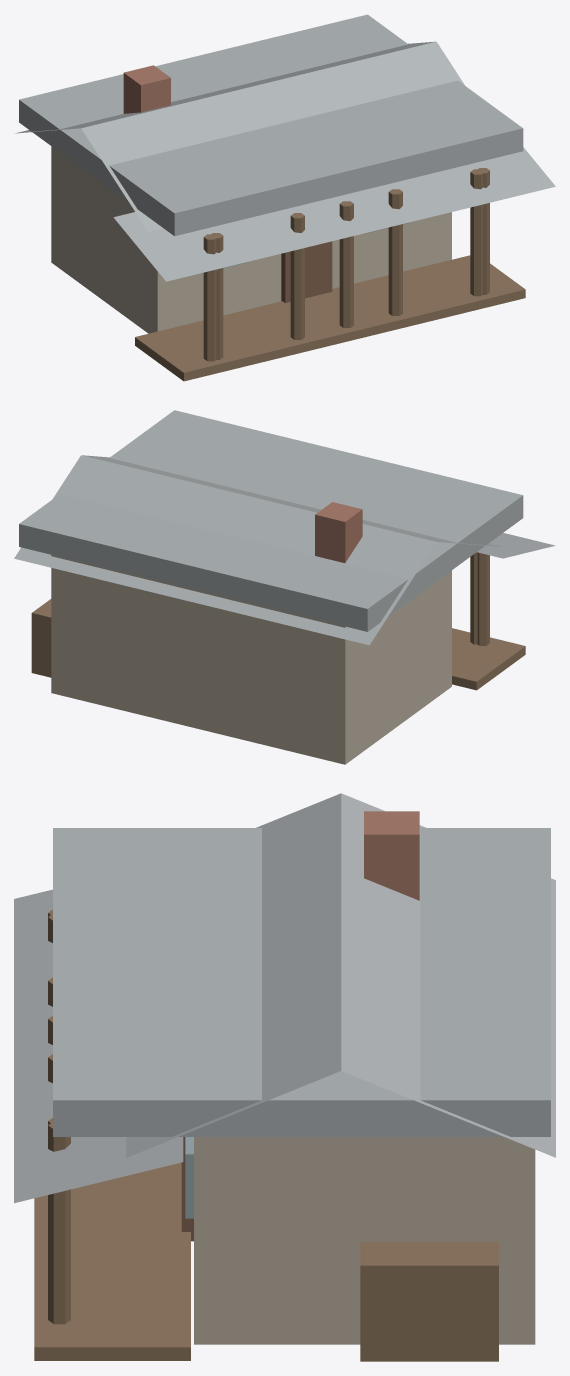
Rendered from winery.glb.
The picture shows the model from 3 angles, top to bottom: view 1: azimuth 30°, elevation 25°; view 2: azimuth 150°, elevation 25°; view 3: azimuth 270°, elevation 25°; orthographic projection. The views are drawn at different scales.
Visible parts, largest first — view 1: near, far; view 2: near, far; view 3: near, far.
Part boxes in pixels (x1,y1,x2,y2): near: (14, 41, 555, 381); far: (19, 14, 523, 359); near: (14, 455, 555, 764); far: (19, 410, 523, 644); near: (14, 793, 555, 1361); far: (48, 828, 550, 1136).
Bounding box in the file's own units: 2.85 × 1.45 × 2.14.
